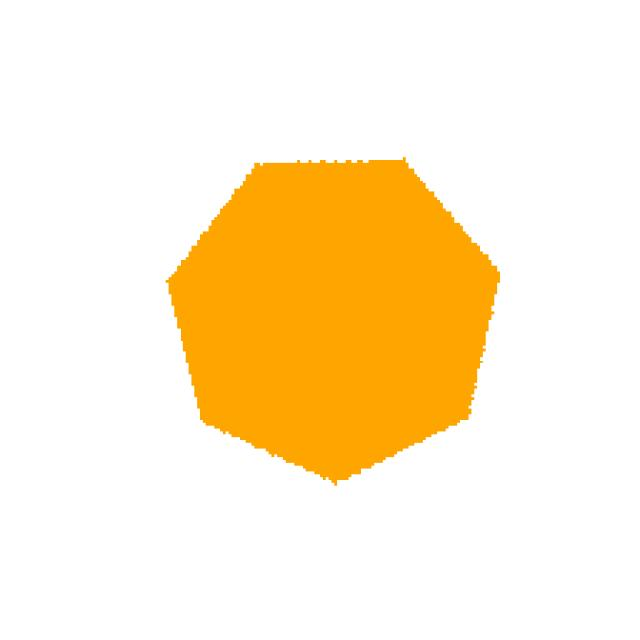Heptagon: (136, 90, 554, 533)
